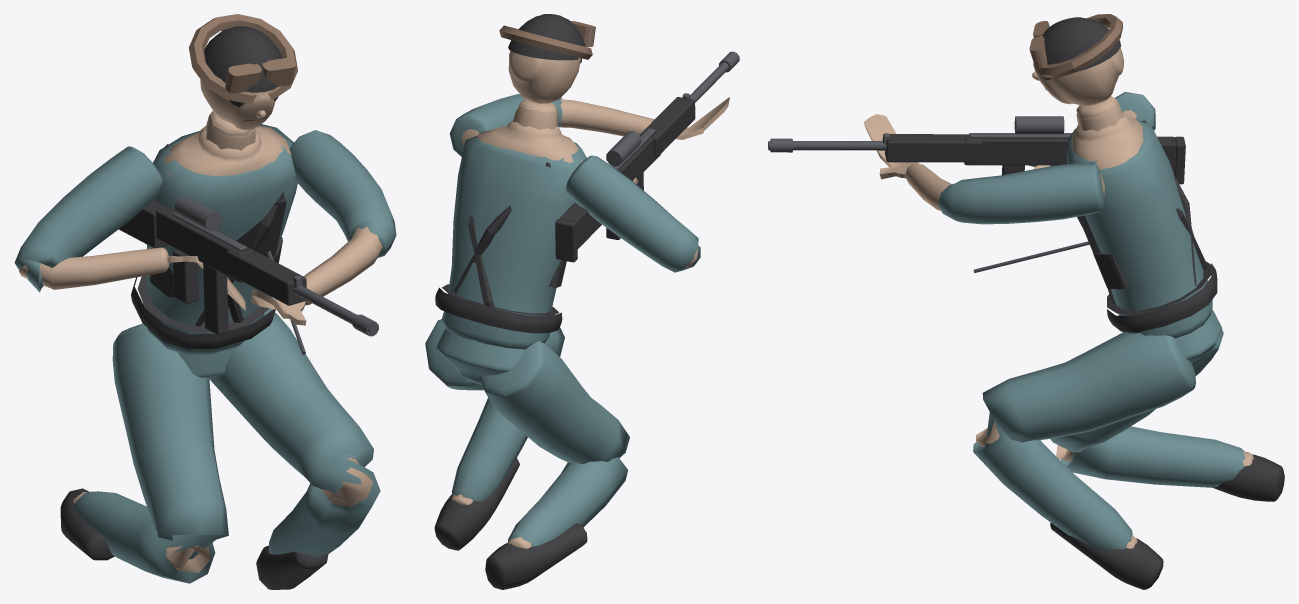
File: tactical-shooter-hill-town-recon-operator-crouch-aim-2be4e72b__27572.glb
The picture shows the model from 3 angles, left to right: view 1: azimuth 30°, elevation 25°; view 2: azimuth 150°, elevation 25°; view 3: azimuth 270°, elevation 25°; orthographic projection. The views are drawn at different scales.
Visible parts, largest first — view 1: recon-operator-crouch-aim; view 2: recon-operator-crouch-aim; view 3: recon-operator-crouch-aim.
Boxes of the visible parts, x1,y1,x2,y2 form: recon-operator-crouch-aim: (14, 14, 396, 589); recon-operator-crouch-aim: (425, 14, 739, 589); recon-operator-crouch-aim: (768, 14, 1284, 589).
Size of the model in its own units: 0.7117 by 1.36 by 1.18.
